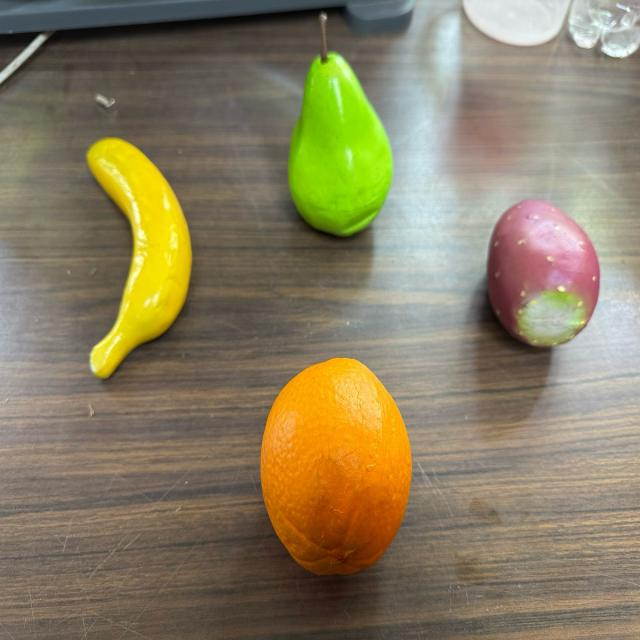banana: (85, 137, 190, 379)
orange: (258, 353, 417, 574)
pear: (287, 16, 392, 236)
tuna: (485, 198, 601, 347)
